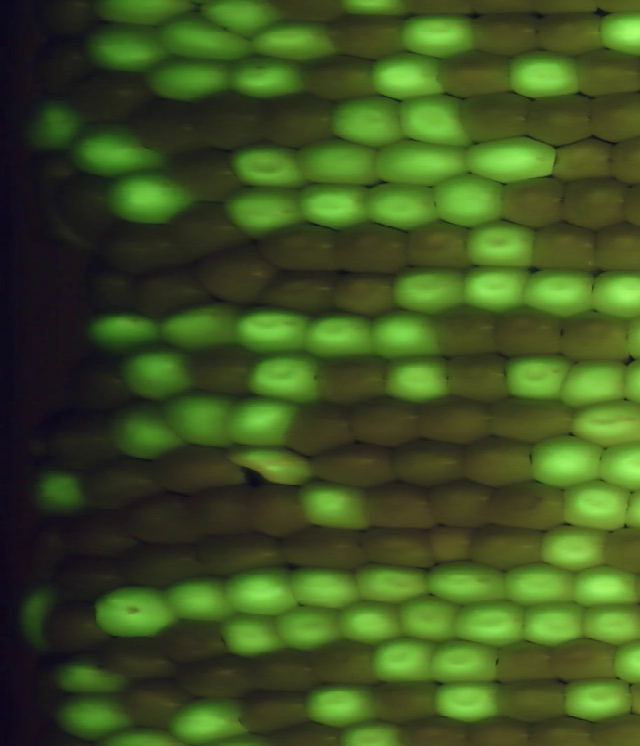fluorescent: (65, 119, 178, 182), (107, 340, 203, 408), (97, 168, 201, 229), (86, 582, 184, 645), (149, 10, 255, 67), (369, 135, 475, 190), (104, 399, 194, 463), (76, 19, 173, 76), (216, 185, 311, 243), (520, 431, 611, 491), (464, 131, 562, 186), (286, 136, 387, 189), (391, 89, 474, 152), (154, 300, 244, 356), (160, 694, 256, 746), (216, 393, 305, 449), (160, 387, 239, 449), (421, 557, 515, 609), (241, 350, 325, 408), (17, 91, 88, 159), (518, 264, 602, 321), (48, 689, 138, 742), (295, 478, 377, 536), (233, 302, 316, 359), (291, 179, 377, 234), (218, 564, 304, 619), (238, 19, 345, 63), (361, 179, 445, 235), (222, 441, 315, 491), (388, 262, 471, 318), (142, 57, 240, 104), (537, 522, 619, 578), (222, 141, 311, 192), (560, 477, 636, 536), (157, 573, 240, 627), (368, 48, 448, 104), (436, 170, 507, 233), (364, 307, 445, 362), (77, 309, 165, 359), (423, 675, 511, 725), (425, 635, 508, 688), (377, 353, 455, 409), (460, 218, 542, 271), (351, 560, 436, 611), (44, 652, 138, 698), (300, 679, 383, 731), (327, 94, 405, 149), (297, 309, 379, 361), (450, 597, 532, 649), (557, 674, 639, 726), (554, 355, 630, 411), (396, 12, 478, 63), (226, 52, 313, 100), (504, 49, 584, 101), (282, 563, 365, 613), (565, 397, 640, 452), (499, 351, 581, 401), (459, 262, 537, 314), (499, 558, 579, 608), (17, 580, 63, 665), (515, 597, 589, 649), (336, 595, 407, 649), (275, 601, 345, 655), (217, 609, 291, 660), (195, 1, 288, 41), (393, 593, 464, 645), (567, 560, 640, 610), (365, 635, 436, 685), (27, 467, 94, 519), (88, 1, 204, 29), (586, 266, 640, 324), (582, 600, 640, 650), (595, 438, 640, 493), (330, 718, 408, 746), (595, 9, 640, 55), (607, 635, 640, 686)
nonfluorescent: (193, 241, 281, 310), (157, 141, 249, 206), (51, 169, 126, 247), (148, 439, 253, 493), (37, 410, 133, 469), (91, 219, 185, 279), (67, 67, 164, 125), (125, 262, 214, 324), (187, 88, 269, 155), (75, 452, 165, 512), (252, 222, 346, 279), (258, 89, 339, 154), (164, 198, 248, 259), (115, 490, 203, 548), (177, 339, 262, 398), (429, 46, 518, 101), (487, 393, 581, 445), (456, 88, 536, 149), (255, 266, 342, 322), (346, 391, 430, 449), (193, 531, 292, 580), (305, 439, 399, 490), (282, 399, 360, 460), (495, 169, 567, 235), (556, 308, 638, 365), (491, 302, 570, 361), (279, 524, 374, 573), (296, 52, 385, 104), (328, 220, 413, 273), (484, 479, 569, 532), (31, 32, 96, 101), (129, 94, 205, 153), (314, 352, 395, 407), (56, 509, 145, 559), (527, 221, 605, 278), (425, 304, 504, 360), (415, 393, 495, 448), (458, 433, 536, 489), (306, 632, 380, 691), (523, 90, 595, 150), (245, 645, 325, 699), (186, 483, 263, 539), (159, 615, 236, 671), (325, 12, 406, 65), (465, 519, 546, 572), (466, 9, 550, 60), (122, 542, 209, 591), (357, 478, 435, 532), (37, 600, 115, 654), (402, 218, 477, 274), (555, 175, 626, 234), (97, 632, 176, 685), (235, 688, 317, 739), (442, 350, 513, 408), (118, 676, 192, 731), (387, 438, 469, 487), (545, 634, 625, 684), (356, 522, 436, 572), (245, 481, 315, 538), (170, 650, 253, 697), (73, 359, 143, 414), (545, 131, 616, 185), (530, 7, 605, 58), (368, 678, 449, 725), (55, 553, 132, 602), (572, 44, 640, 98), (328, 269, 400, 320), (426, 476, 495, 529), (493, 676, 569, 724), (77, 262, 141, 317), (26, 139, 83, 200), (35, 1, 108, 46), (581, 91, 640, 146), (25, 516, 71, 585), (588, 218, 640, 279), (493, 638, 557, 684), (396, 711, 480, 746), (458, 712, 537, 746), (422, 521, 479, 567), (525, 713, 597, 746), (601, 131, 640, 189), (600, 522, 640, 576), (587, 713, 640, 746)
